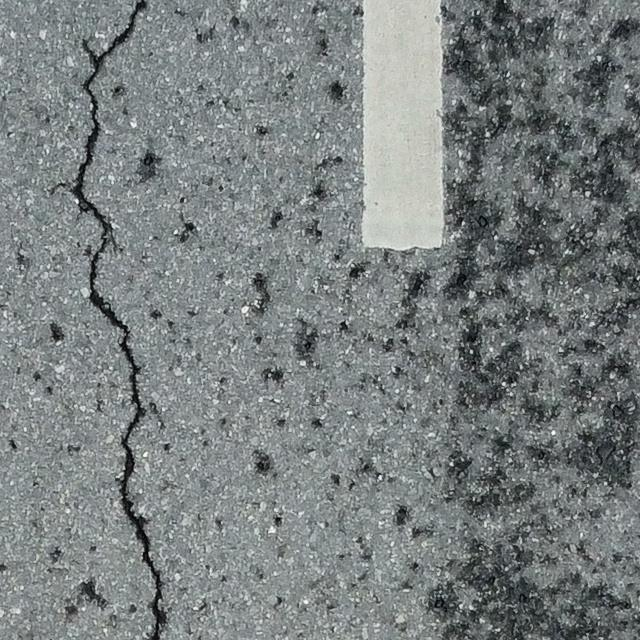LongitudinalCrack: (65, 1, 173, 640)
